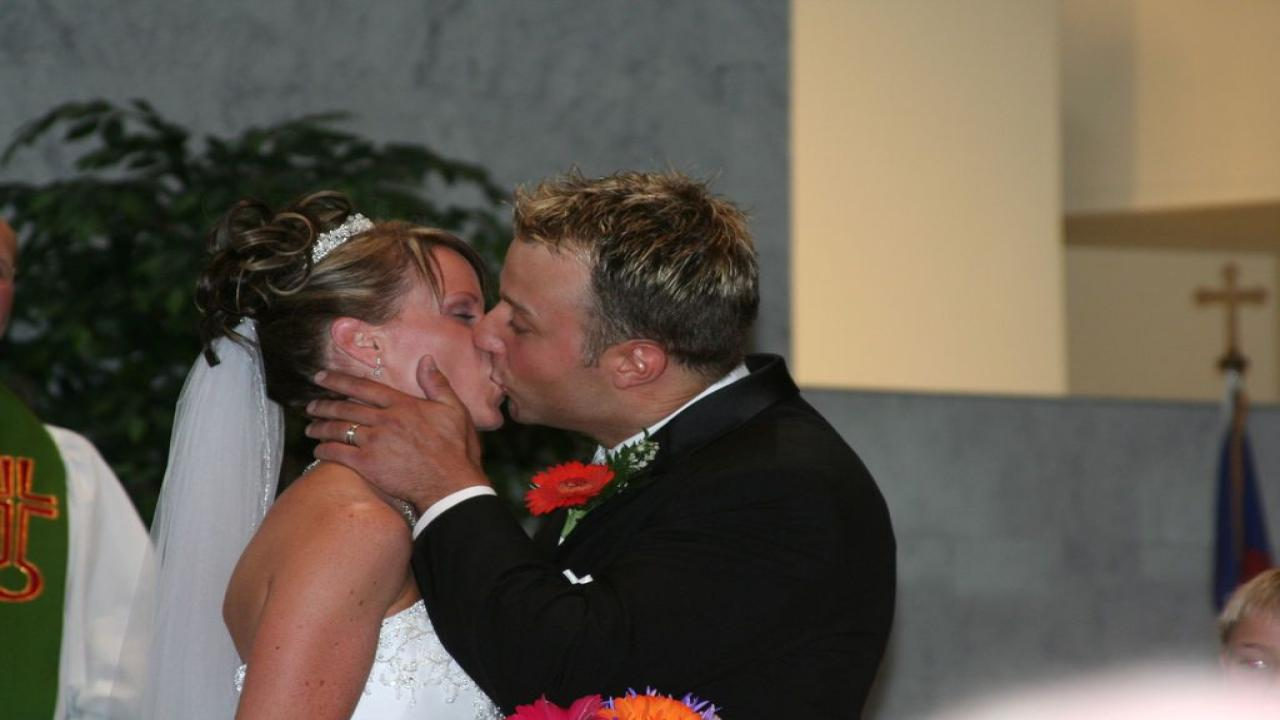ring: (342, 422, 362, 445)
